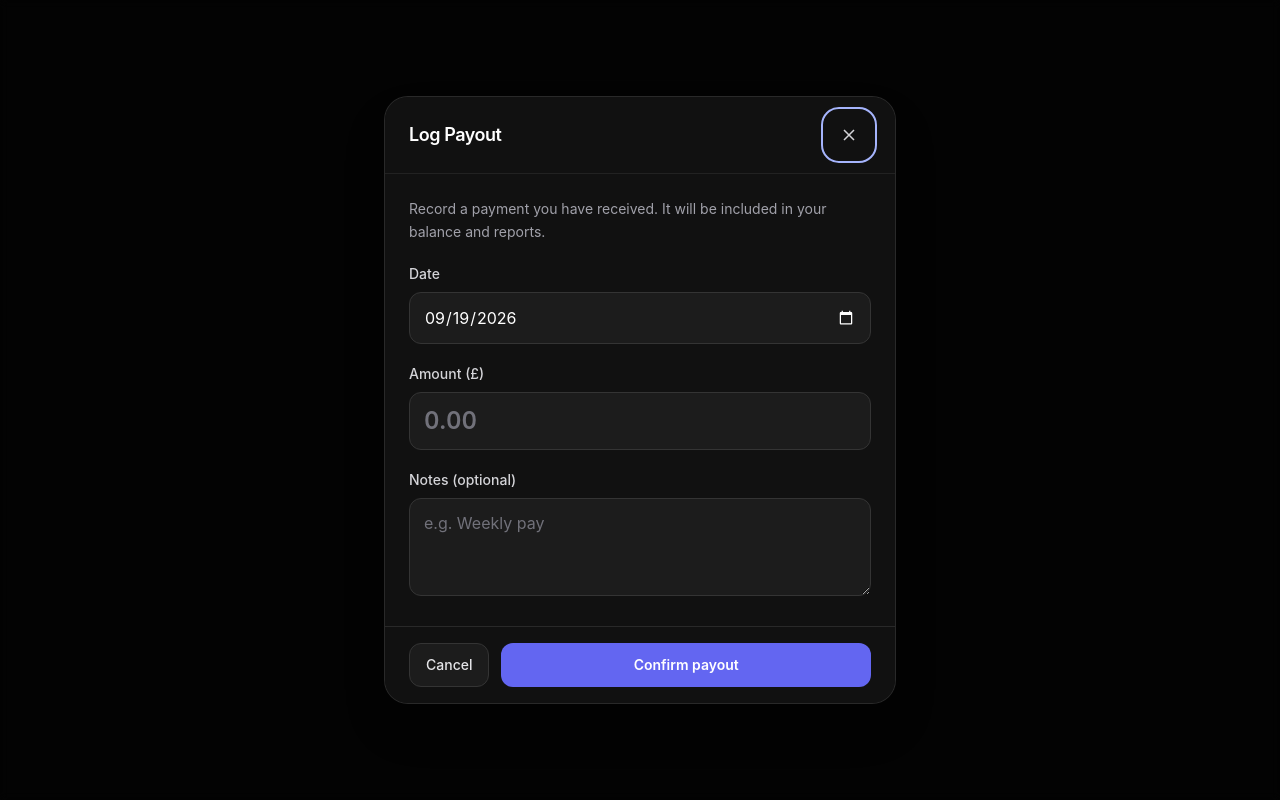
Scenario: payout form › rejects amounts with more than two decimal places
Type "12.345" into the number field labelled "Amount (£)".
click(640, 421); type("12.345")  # box left=409, top=392, right=871, bottom=450
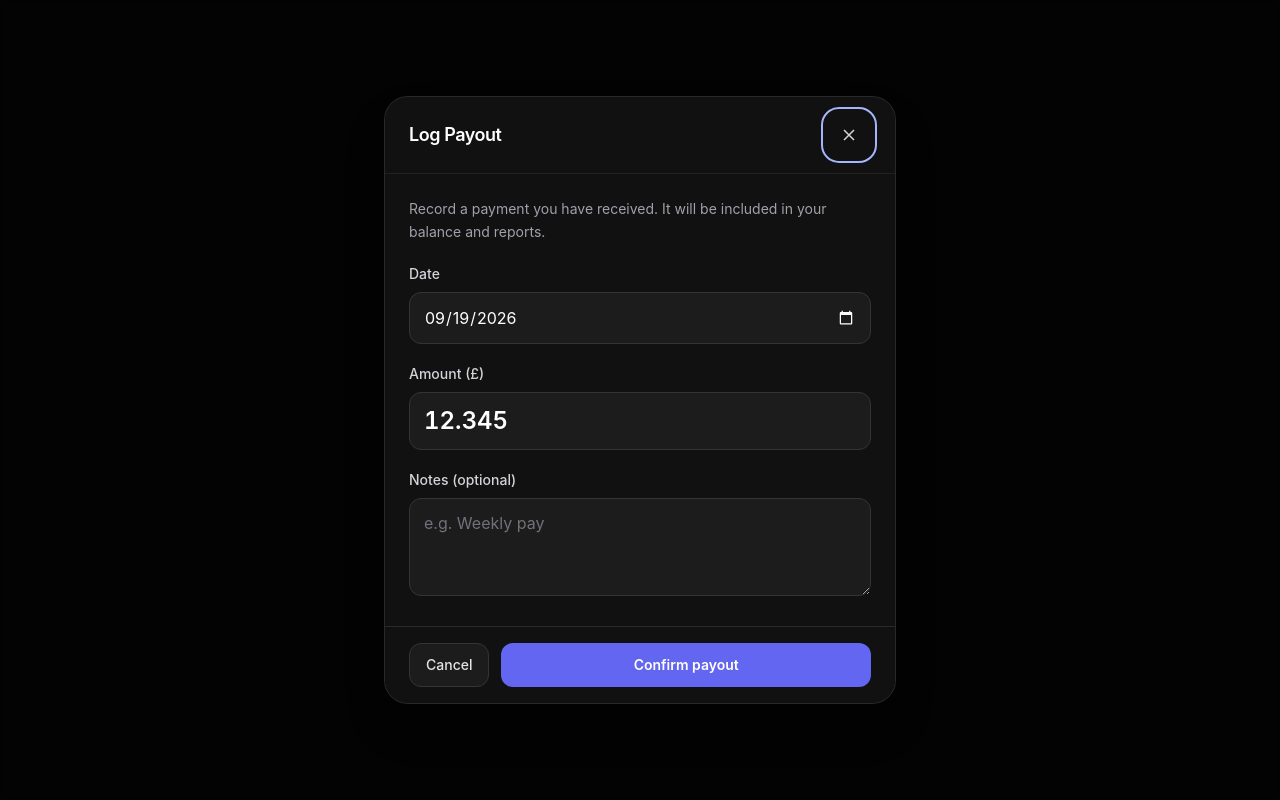
Click the button "Confirm payout".
click(686, 665)  # box left=502, top=643, right=871, bottom=687
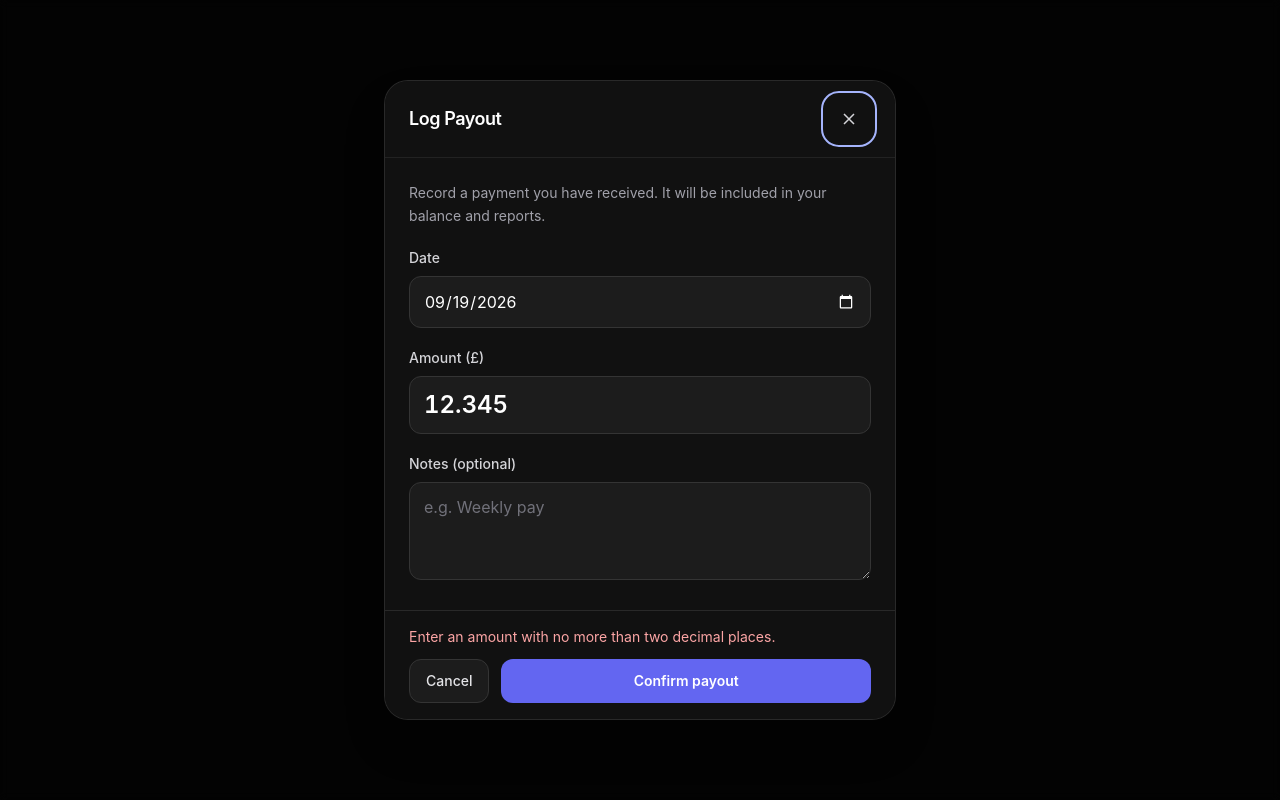
Expected: the message shows "two decimal", left=409, top=628, right=775, bottom=645
